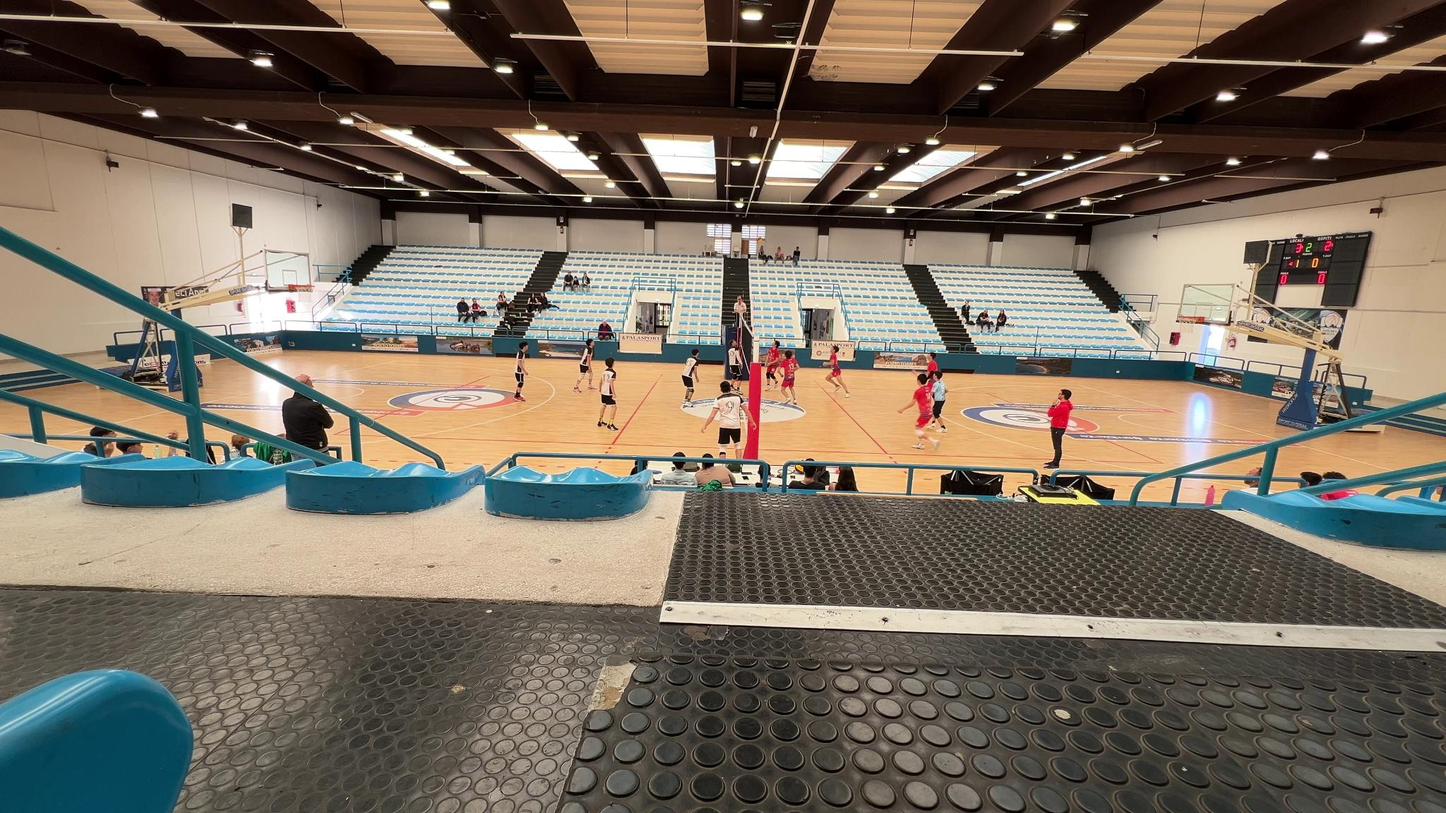volleyball court: (309, 368, 1170, 460)
